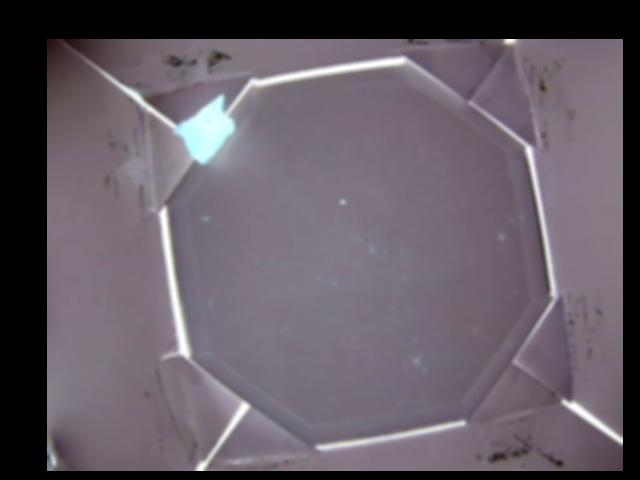Brisk: (172, 95, 235, 163)
